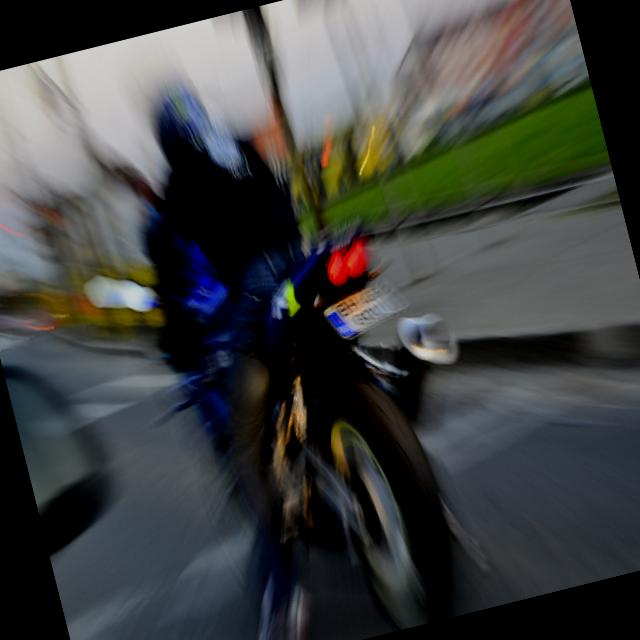Vehicle: (209, 185, 524, 640)
